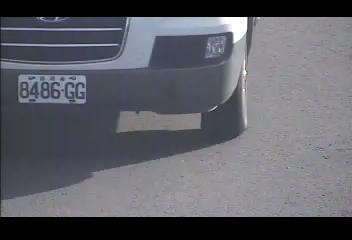plate: (17, 73, 86, 105)
